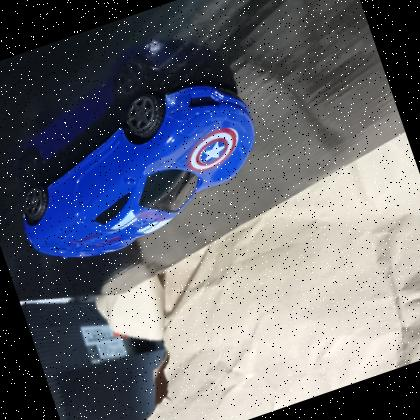Car: (0, 51, 286, 286)
